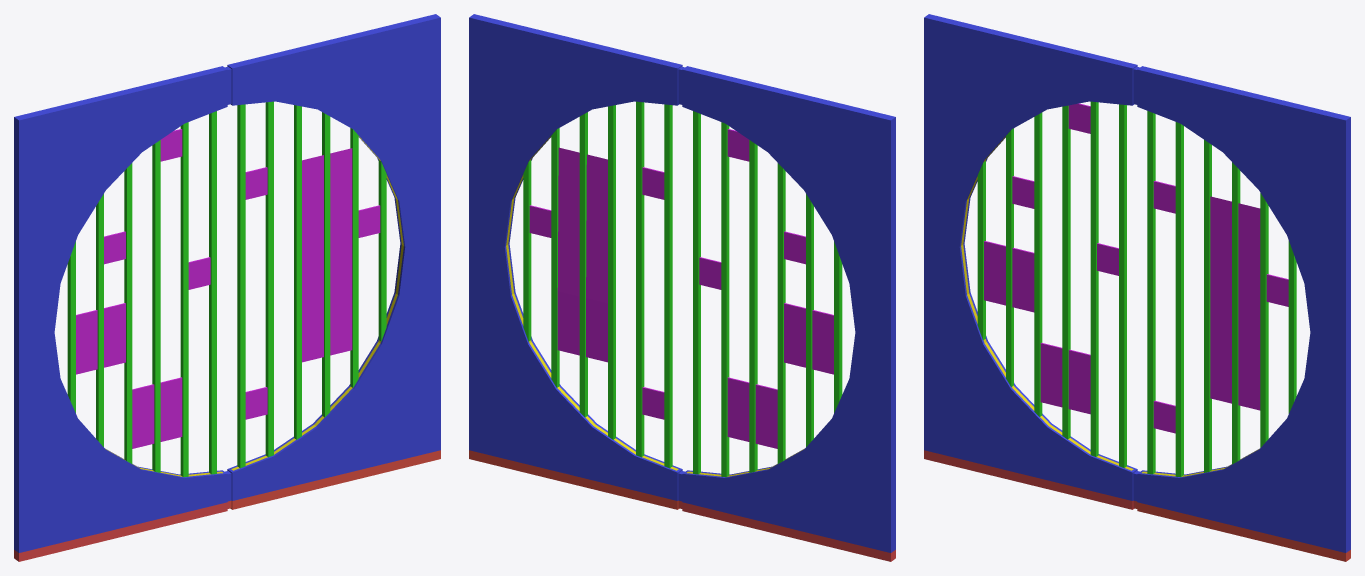
File: Door_08.fbx
The picture shows the model from 3 angles, left to right: view 1: azimuth 30°, elevation 25°; view 2: azimuth 150°, elevation 25°; view 3: azimuth 330°, elevation 25°; orthographic projection.
Parts seen in each view (by area): view 1: Door_08_Right, Door_08_Left; view 2: Door_08_Right, Door_08_Left; view 3: Door_08_Right, Door_08_Left.
Part boxes in pixels (x1,y1,x2,y2): Door_08_Right: (226, 14, 440, 509); Door_08_Left: (14, 66, 229, 561); Door_08_Right: (469, 14, 683, 509); Door_08_Left: (680, 66, 895, 561); Door_08_Right: (1135, 66, 1350, 561); Door_08_Left: (924, 14, 1138, 509).
Bounding box in the file's own units: 457 × 457 × 9.14.
